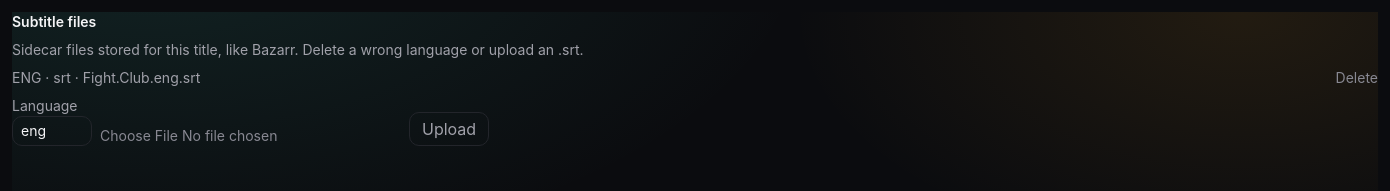
SubtitleFilesCard › lists sidecar files and deletes one
Expected: the list with test id "item-subtitles-list" shows "ENG · srt", top-left (12, 69), bottom-right (71, 86)
Click the button "Delete": point(1357, 78) top-left (1336, 68), bottom-right (1378, 88)
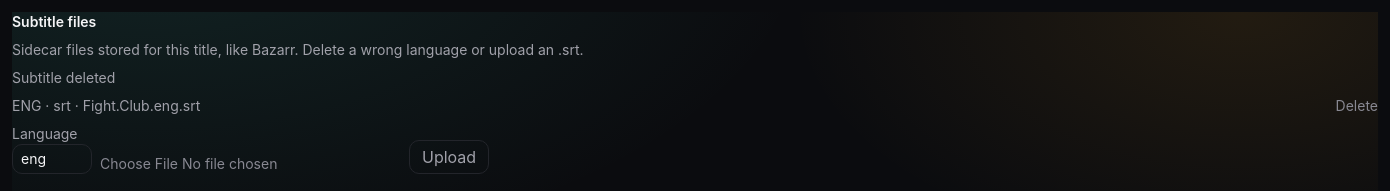
Expected: the text with test id "item-subtitles-flash" reads "Subtitle deleted", top-left (12, 69), bottom-right (115, 86)
